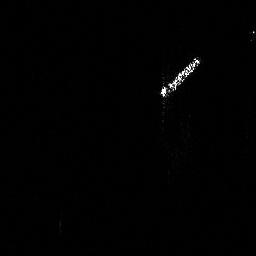ship: (157, 52, 204, 101)
